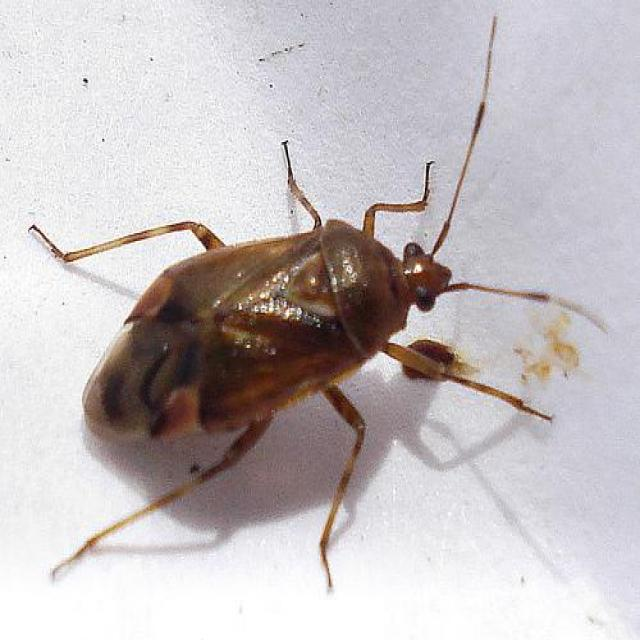Miridae-Adult-: (41, 11, 564, 567)
